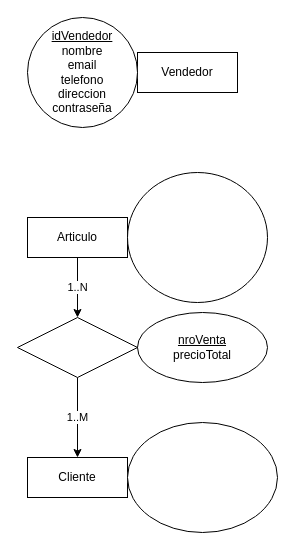
This 295x550 diagram has some shape labels left out. Each missing label, with the centre of its shape:
"Compra" belongs at point (77, 347).
"idArticulo categoria nombre precio descripcion descripcionAcotada imagen stock" belongs at point (197, 237).
"idCliente nombre email telefono direccion contraseña" belongs at point (202, 477).
